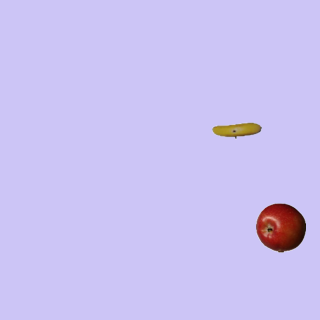Apple Braeburn: (255, 202, 305, 252)
Banana: (211, 105, 261, 155)
